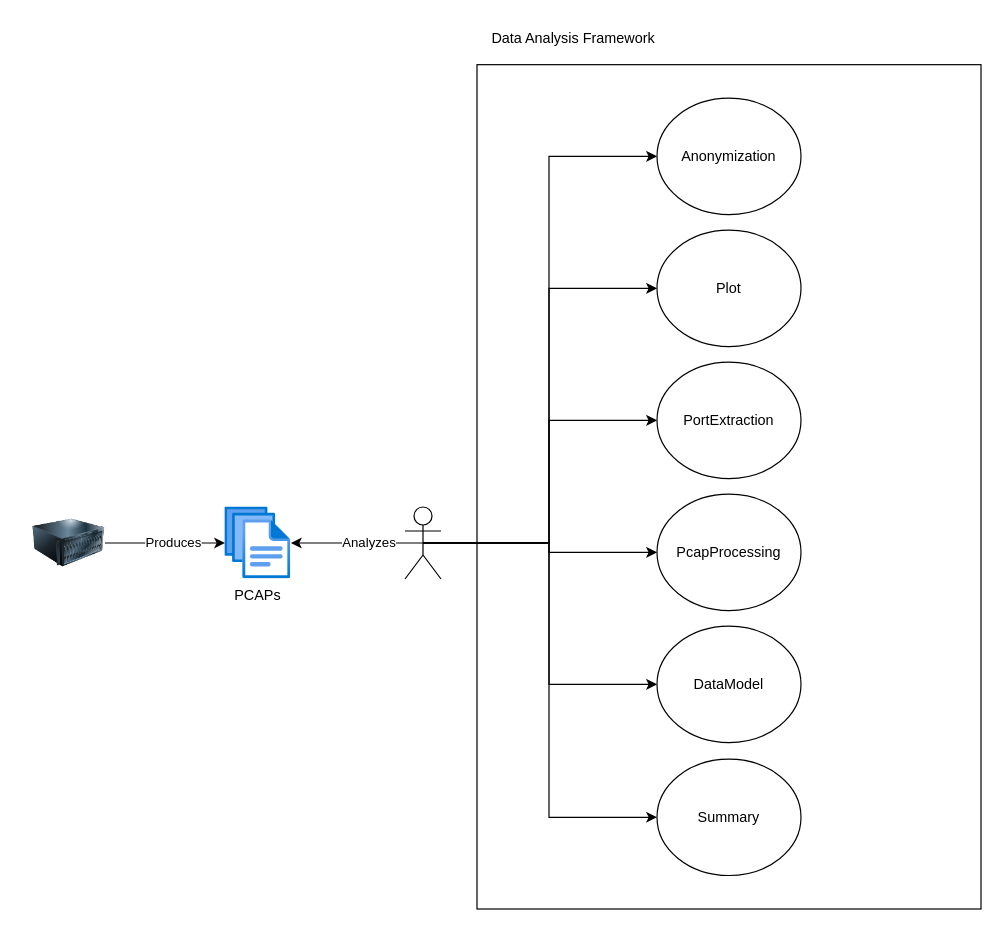
This 1002x930 diagram has some shape labels left out. Here are the shapes that lost their labels. From the top down, the box of each, then its label:
(32, 500, 104, 584): Data Collection Server
(404, 506, 441, 579): Actor
